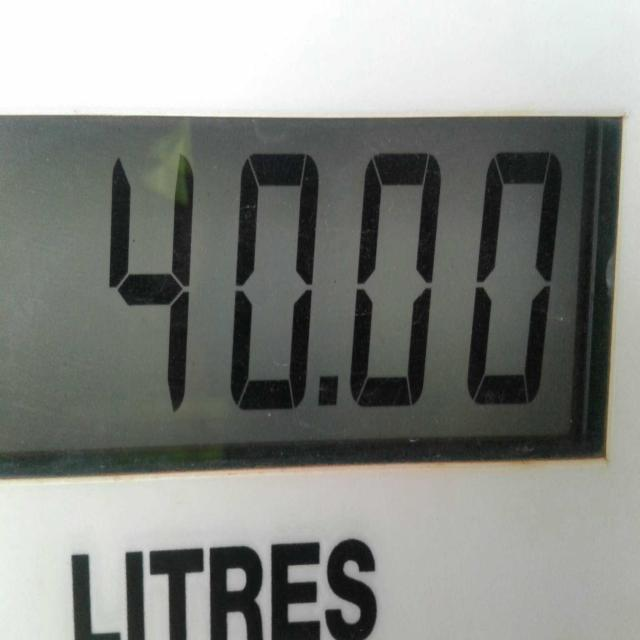.: (304, 361, 353, 422)
0: (341, 136, 444, 436), (462, 130, 570, 412), (218, 136, 321, 420)
4: (99, 141, 208, 440)
